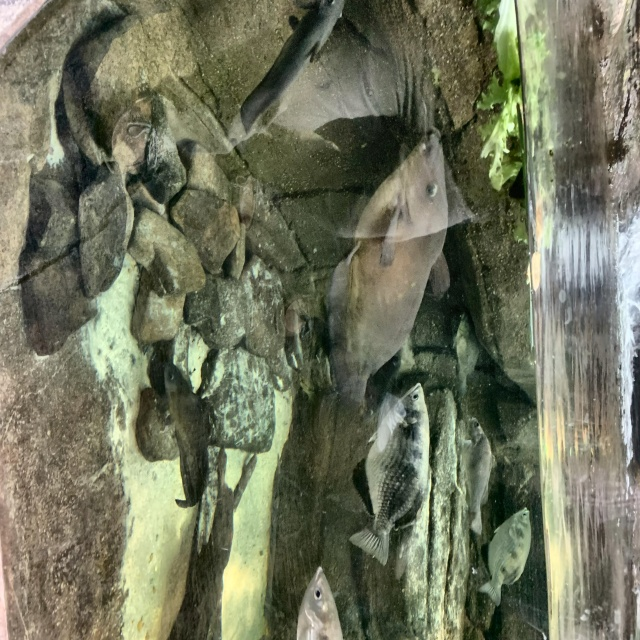fish: (327, 133, 448, 411), (348, 384, 432, 569), (240, 0, 349, 136), (477, 505, 533, 608), (458, 415, 497, 536), (293, 564, 345, 639)
